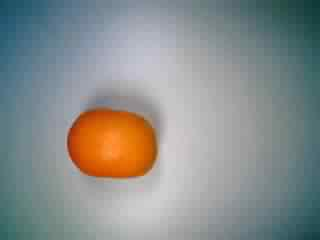orange: (65, 107, 163, 182)
